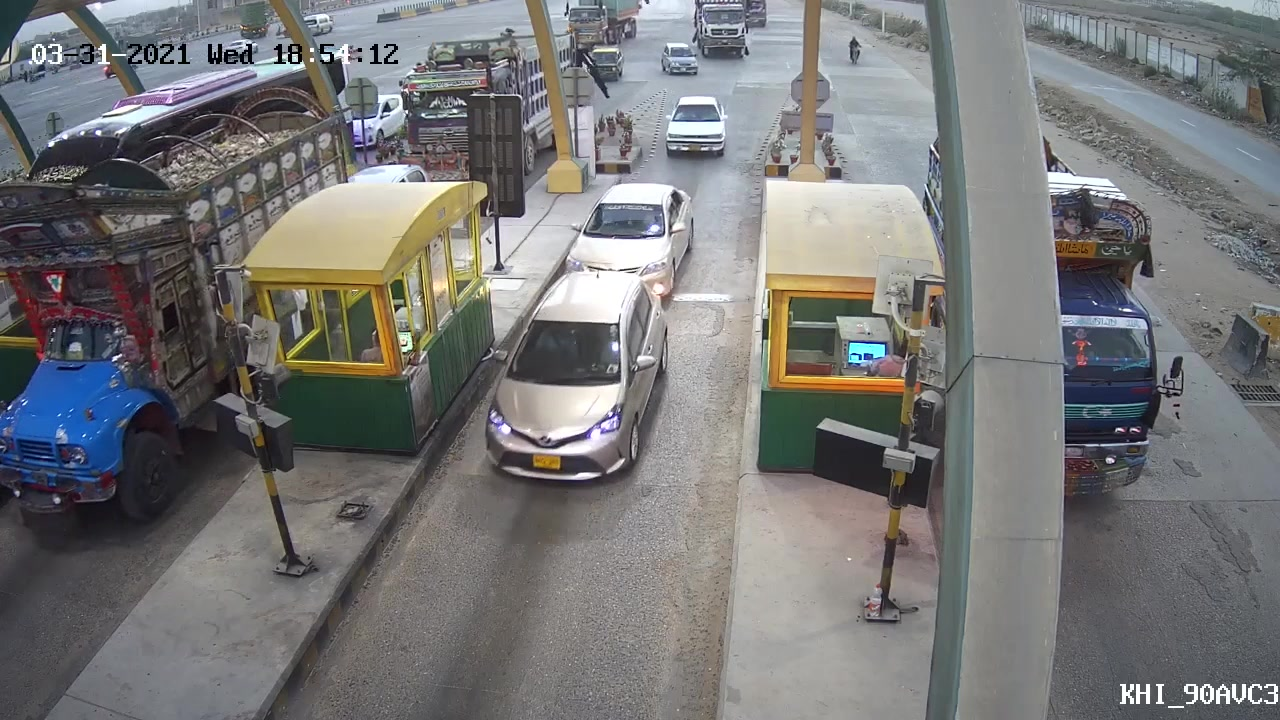F1: (463, 266, 679, 504), (662, 90, 735, 165)
